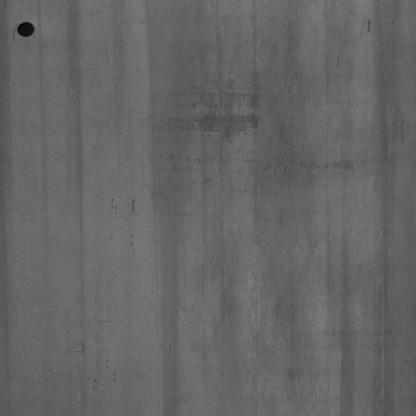oil_spot: (178, 77, 265, 146), (362, 14, 373, 34)
punching_hole: (14, 18, 38, 42)
